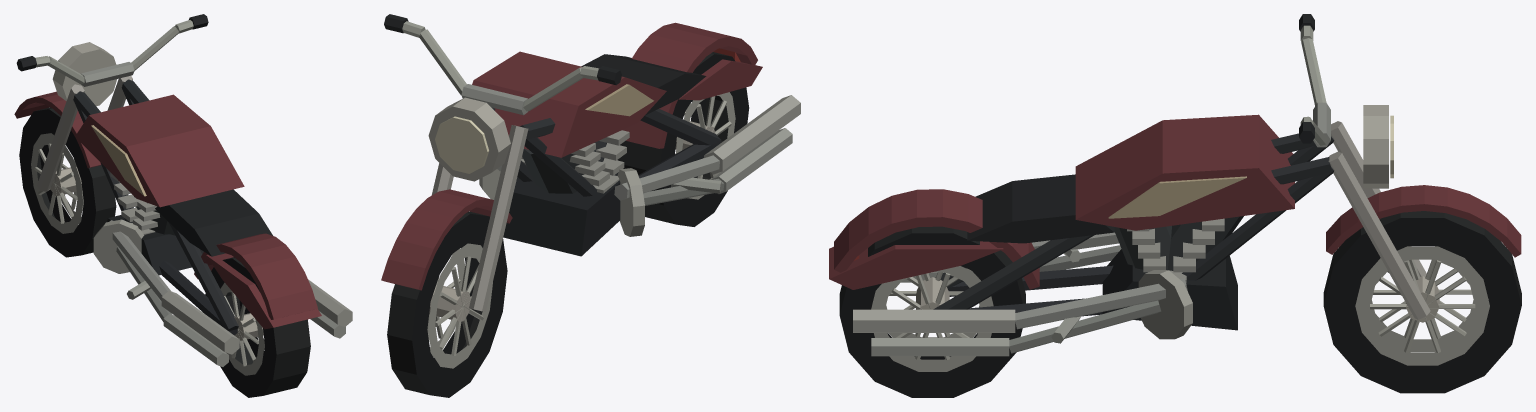
Rendered from custom.glb.
The picture shows the model from 3 angles, left to right: view 1: azimuth 30°, elevation 25°; view 2: azimuth 150°, elevation 25°; view 3: azimuth 270°, elevation 25°; orthographic projection. The views are drawn at different scales.
Parts seen in each view (by area): view 1: proposition_custom; view 2: proposition_custom; view 3: proposition_custom.
Part boxes in pixels (x1,y1,x2,y2): proposition_custom: (14,14,352,397); proposition_custom: (381,14,800,397); proposition_custom: (829,14,1521,397).
Bounding box in the file's own units: 0.92 × 1.16 × 2.3.
